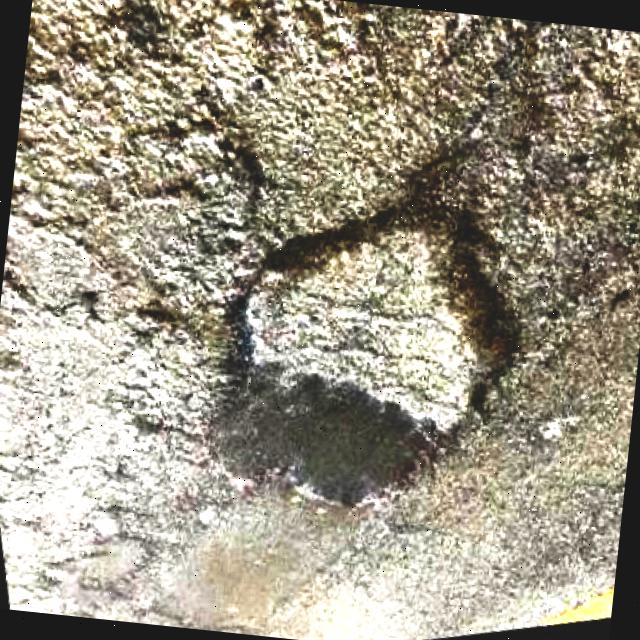pothole: (186, 164, 557, 523), (73, 486, 330, 640)
